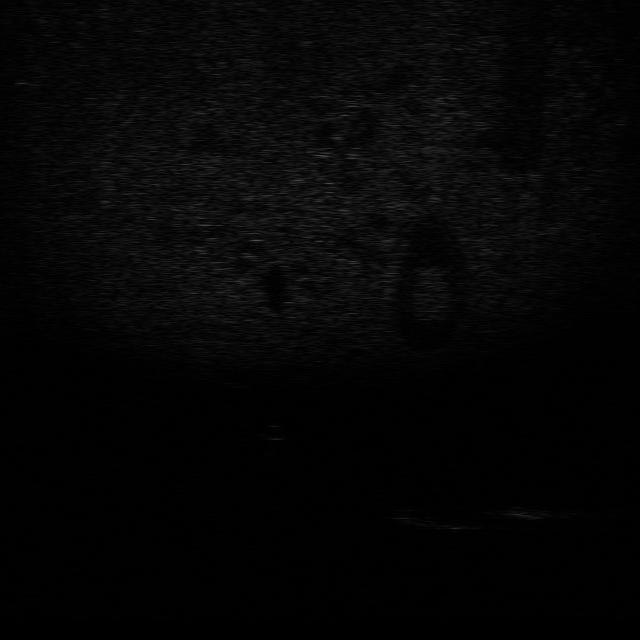ball: (255, 421, 291, 444)
metal bucket: (484, 498, 575, 522)
tyre: (396, 506, 484, 532)
